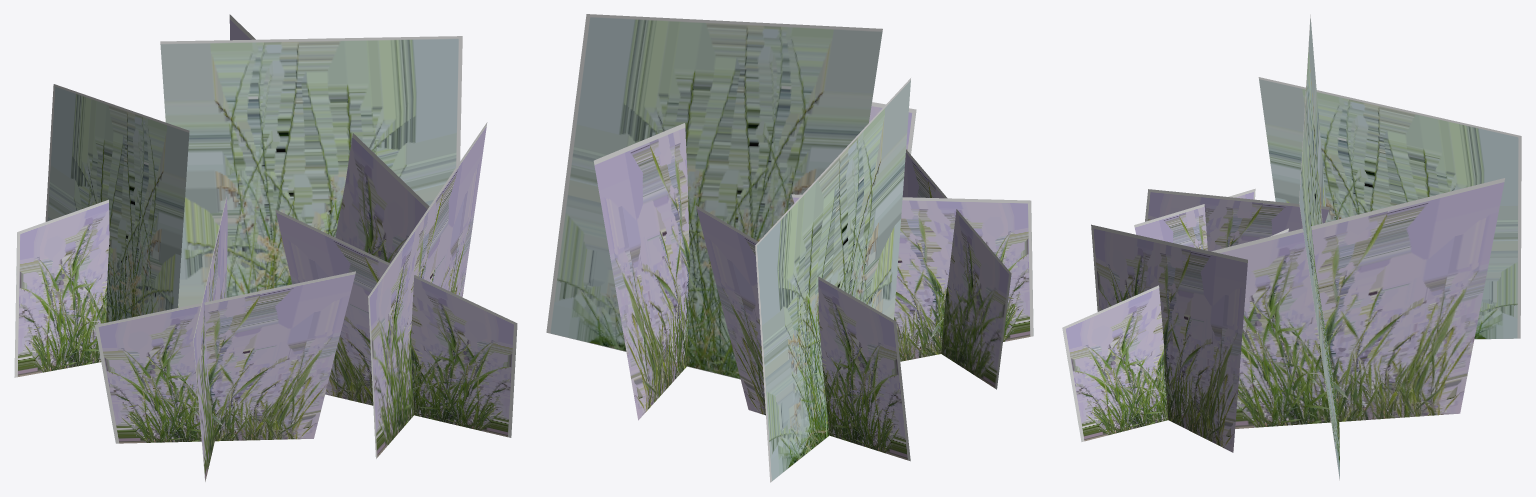
The model's file is MountainGrass2A.fbx.
3 renders of one model, left to right at view 1: azimuth 30°, elevation 25°; view 2: azimuth 150°, elevation 25°; view 3: azimuth 270°, elevation 25°, orthographic. The views are drawn at different scales.
Parts seen in each view (by area): view 1: MountainGrass2A; view 2: MountainGrass2A; view 3: MountainGrass2A.
Part boxes in pixels (x1,y1,x2,y2): MountainGrass2A: (14, 14, 517, 481); MountainGrass2A: (546, 14, 1033, 482); MountainGrass2A: (1062, 14, 1521, 480).
Bounding box in the file's own units: 163 × 138 × 174.
